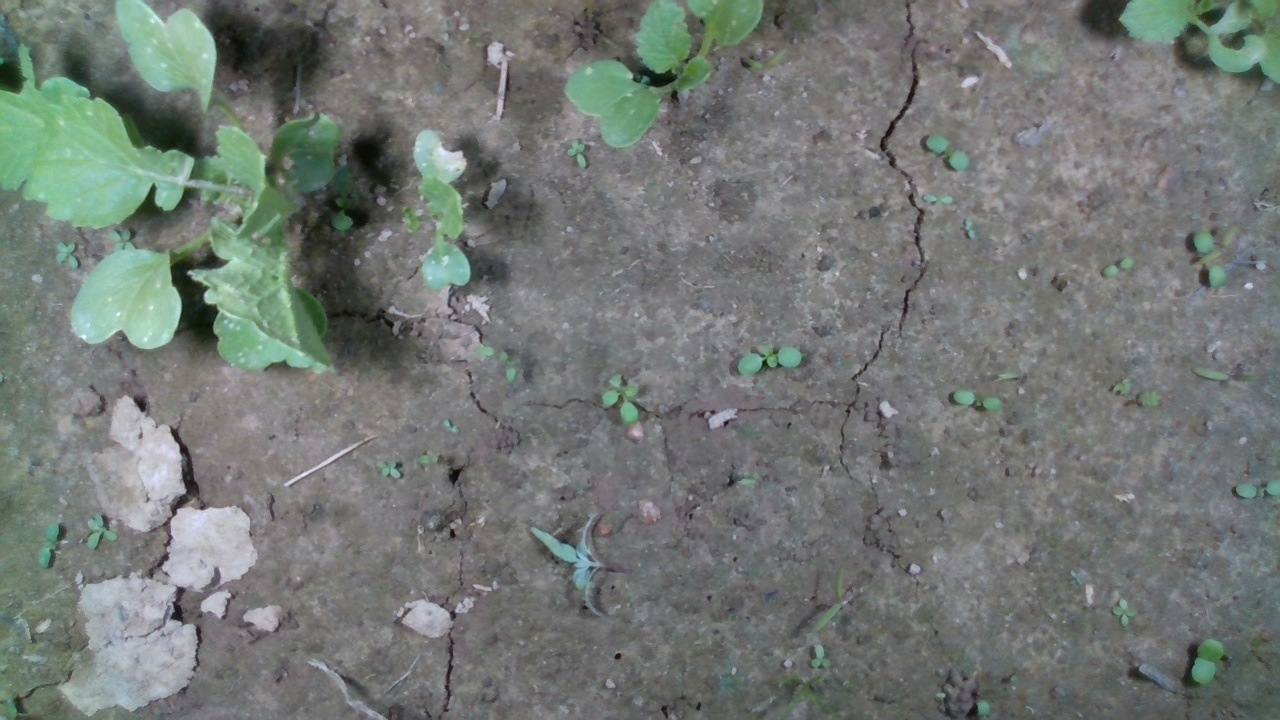weed: (735, 342, 803, 377), (599, 372, 642, 427), (811, 566, 845, 634), (924, 133, 972, 171), (1188, 637, 1225, 685), (1189, 365, 1264, 384), (86, 510, 120, 549), (36, 518, 61, 571), (952, 389, 1004, 411), (1099, 255, 1136, 278), (1110, 597, 1138, 627), (566, 138, 588, 170), (808, 642, 831, 670), (374, 458, 402, 480), (921, 192, 957, 204), (962, 216, 978, 241), (442, 418, 460, 434)
